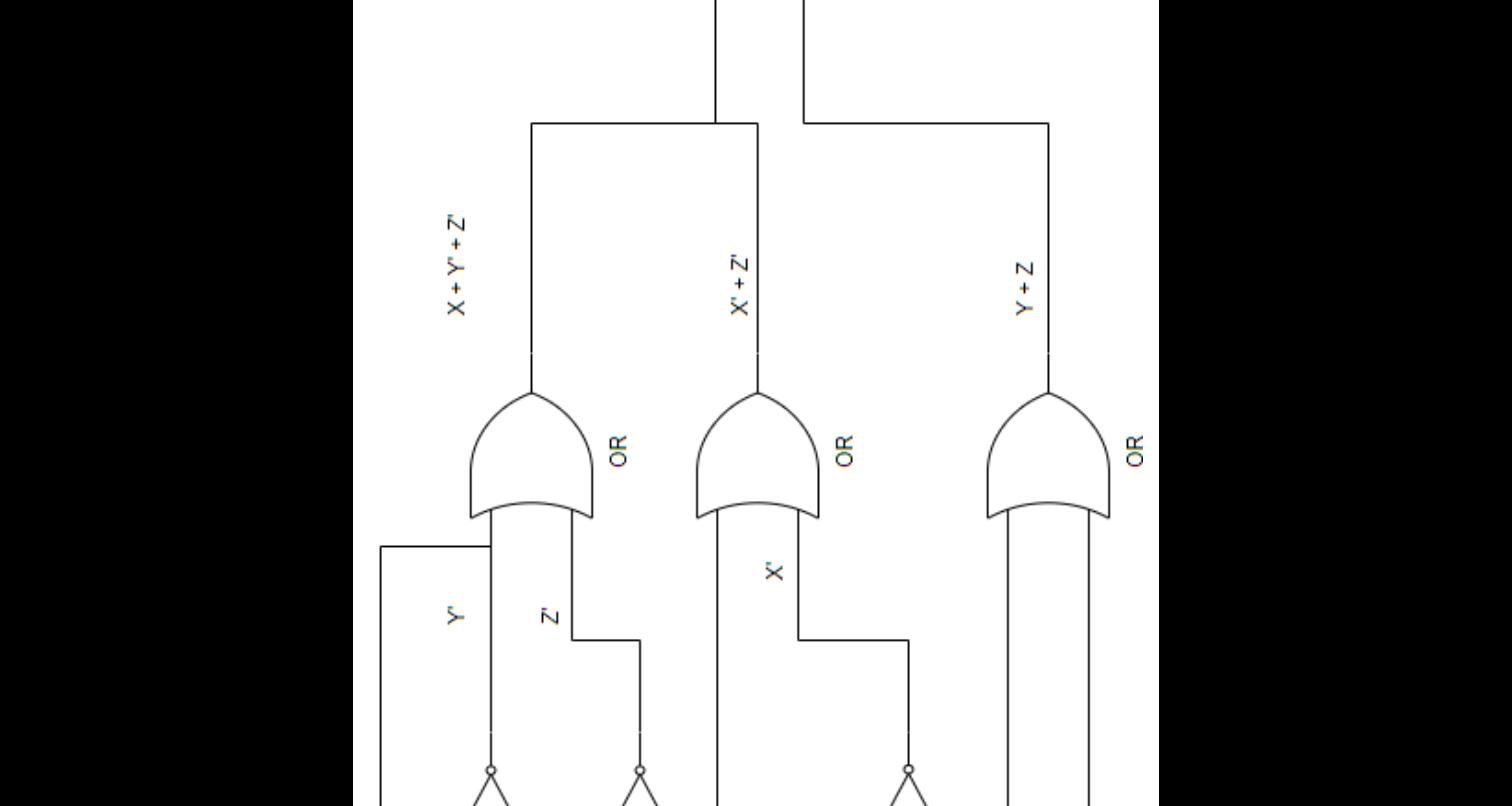not: (689, 379, 834, 532), (570, 749, 713, 806), (412, 755, 564, 806), (831, 755, 977, 806)
or: (972, 377, 1118, 525), (456, 389, 606, 525)
